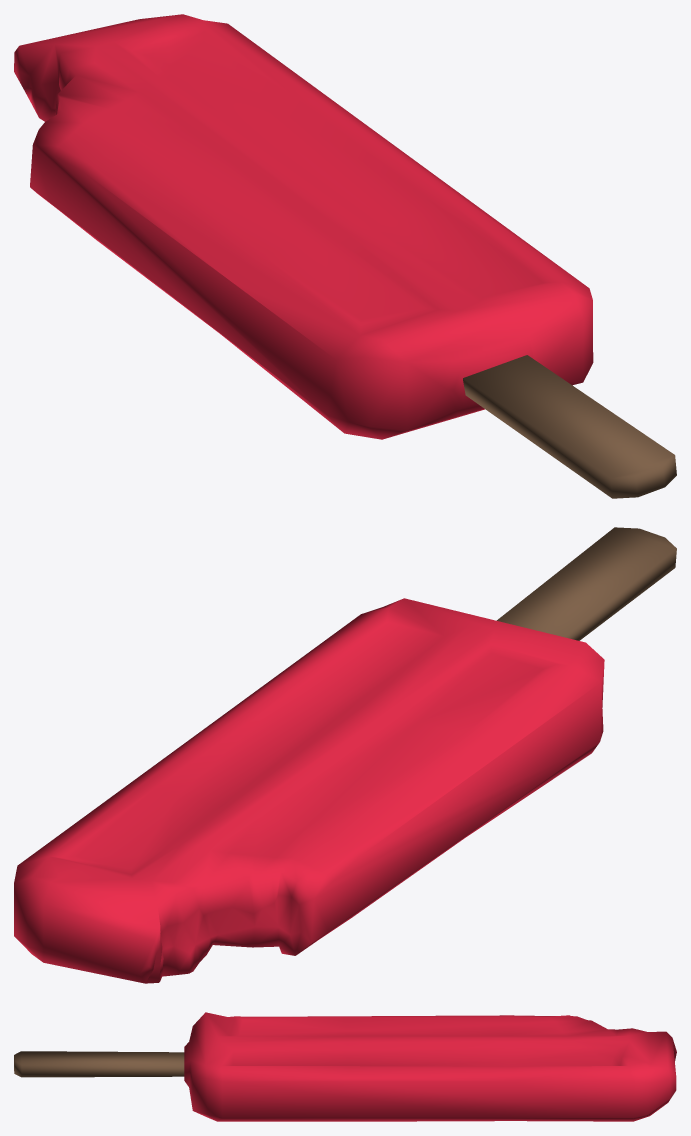
File: popsicle_v2.fbx
3 renders of one model, top to bottom at view 1: azimuth 30°, elevation 25°; view 2: azimuth 150°, elevation 25°; view 3: azimuth 270°, elevation 25°, orthographic. The views are drawn at different scales.
Parts seen in each view (by area): view 1: Cube; view 2: Cube; view 3: Cube.
Boxes of the visible parts, box(x1,y1,x2,y2) form: Cube: box(14, 14, 676, 498); Cube: box(14, 527, 676, 983); Cube: box(14, 1012, 676, 1121).
Bounding box in the file's own units: 203 × 75.44 × 798.
